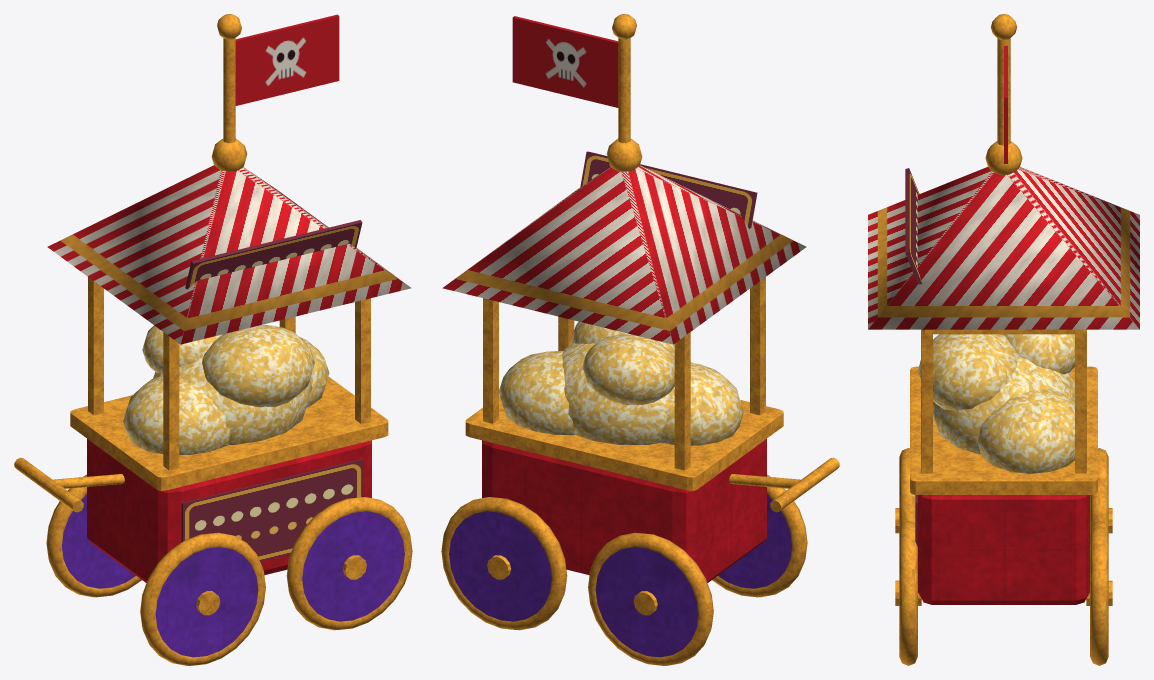
Rendered from MO_Popcorn.fbx.
3 renders of one model, left to right at view 1: azimuth 30°, elevation 25°; view 2: azimuth 150°, elevation 25°; view 3: azimuth 270°, elevation 25°, orthographic.
Visible parts, largest first — view 1: MO_Popcorn; view 2: MO_Popcorn; view 3: MO_Popcorn.
Part boxes in pixels (<box>): MO_Popcorn: <box>14,14,412,665</box>; MO_Popcorn: <box>441,14,839,665</box>; MO_Popcorn: <box>868,14,1139,665</box>.
Size of the model in its own units: 2.85 by 5.06 by 2.05.
